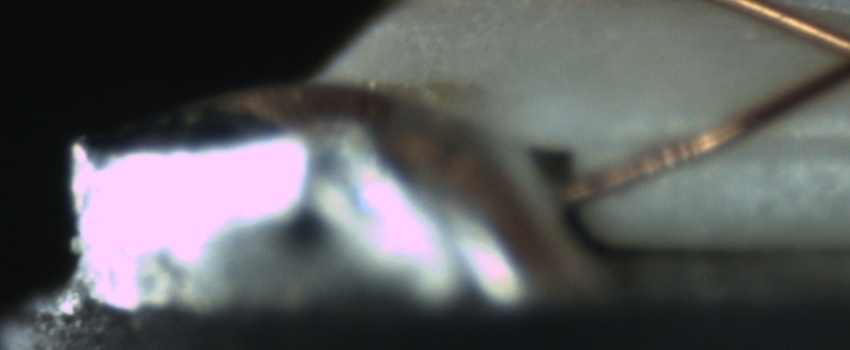DL: (695, 120, 849, 185)
